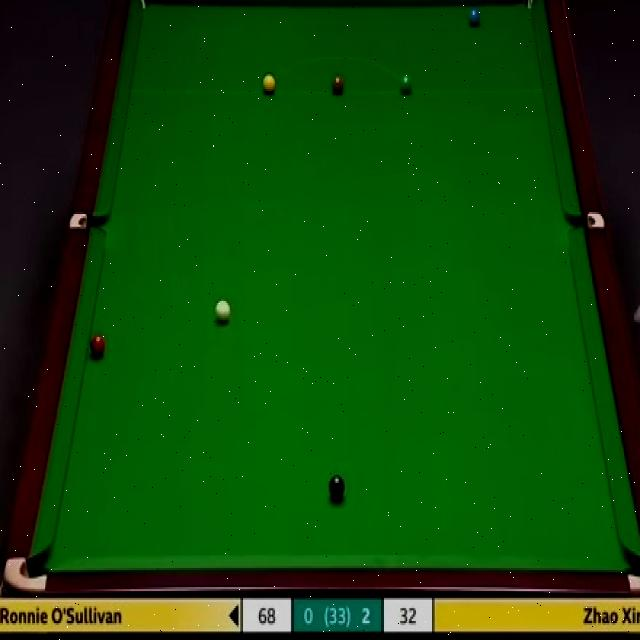black-ball: (329, 474, 345, 501)
blue-ball: (467, 7, 482, 28)
brown-ball: (330, 76, 344, 94)
green-ball: (399, 72, 414, 97)
red-ball: (90, 334, 106, 358)
white-ball: (214, 297, 232, 325)
yellow-ball: (262, 73, 276, 95)
